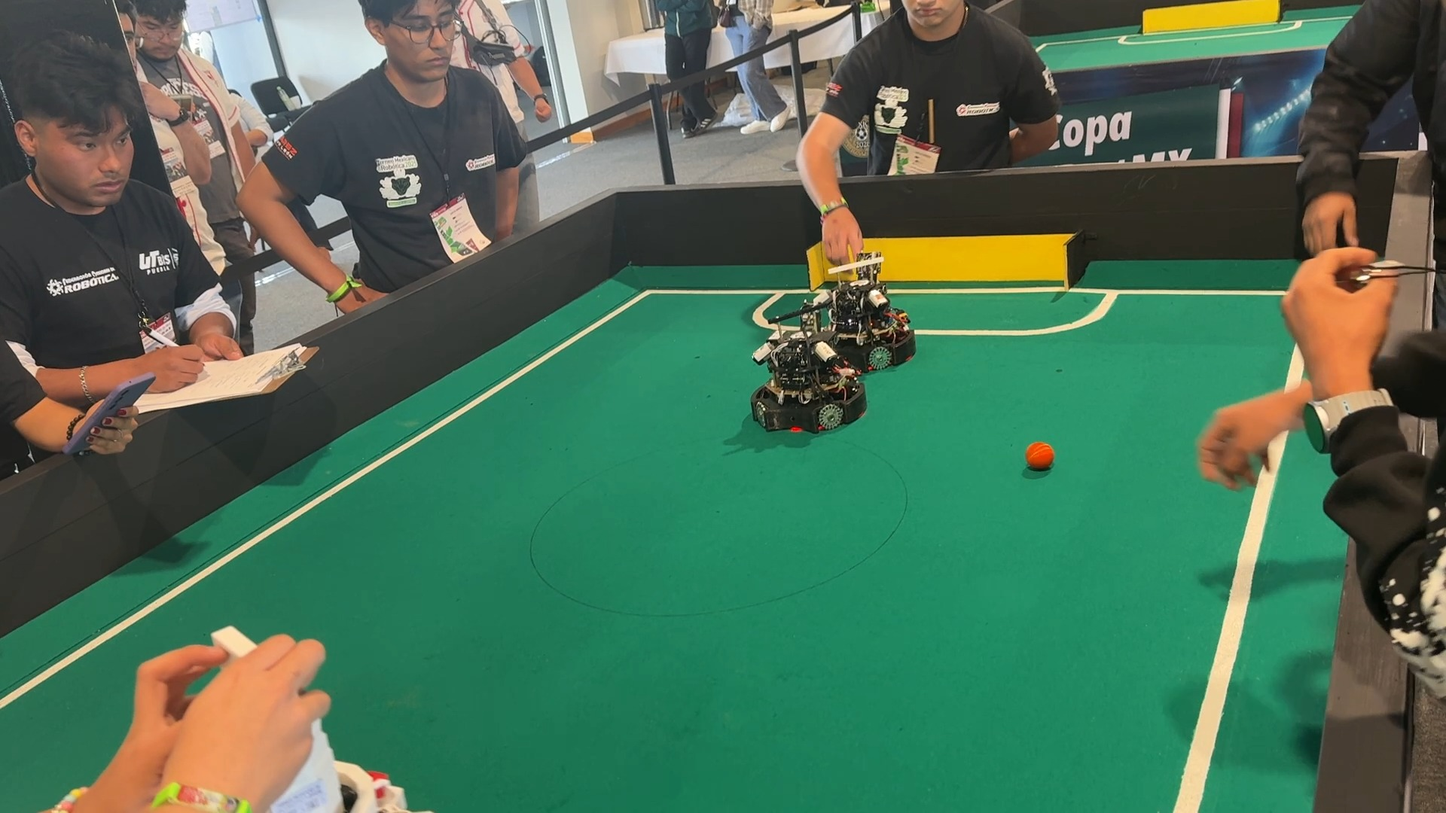Robot: (740, 309, 872, 446), (796, 251, 932, 371)
pelota: (1016, 439, 1059, 484)
